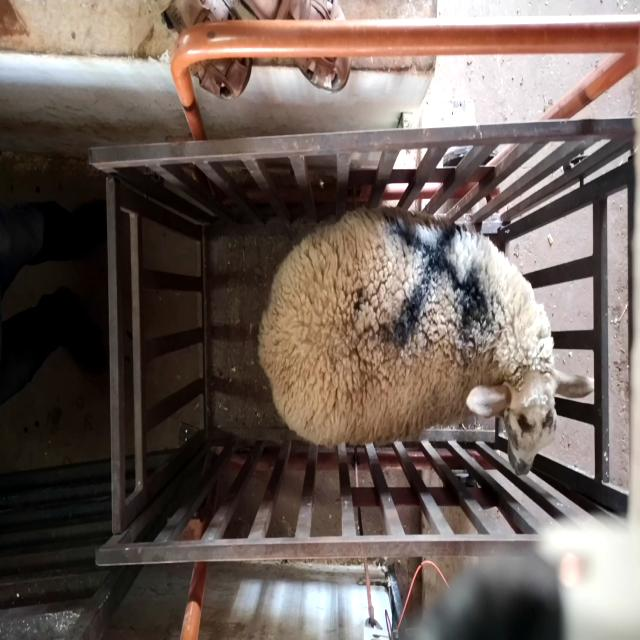sheep: (258, 207, 595, 477)
